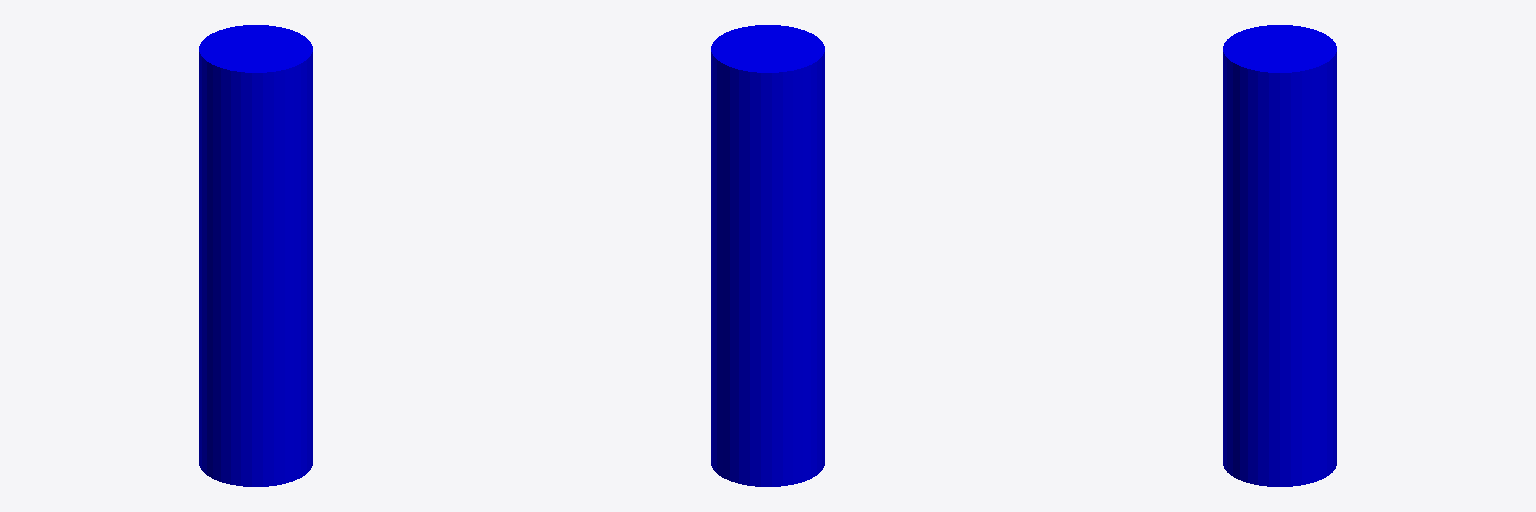
Rendered from poteau.obj.
3 views of the same model, side by side, from view 1: azimuth 30°, elevation 25°; view 2: azimuth 150°, elevation 25°; view 3: azimuth 270°, elevation 25° (orthographic).
Visible parts, largest first — view 1: Poteau_Cylinder; view 2: Poteau_Cylinder; view 3: Poteau_Cylinder.
Part boxes in pixels (left/top/right/bottom): Poteau_Cylinder: left=199, top=25, right=312, bottom=486; Poteau_Cylinder: left=711, top=25, right=824, bottom=486; Poteau_Cylinder: left=1223, top=25, right=1336, bottom=486.
Size of the model in its own units: 2 by 8 by 2.